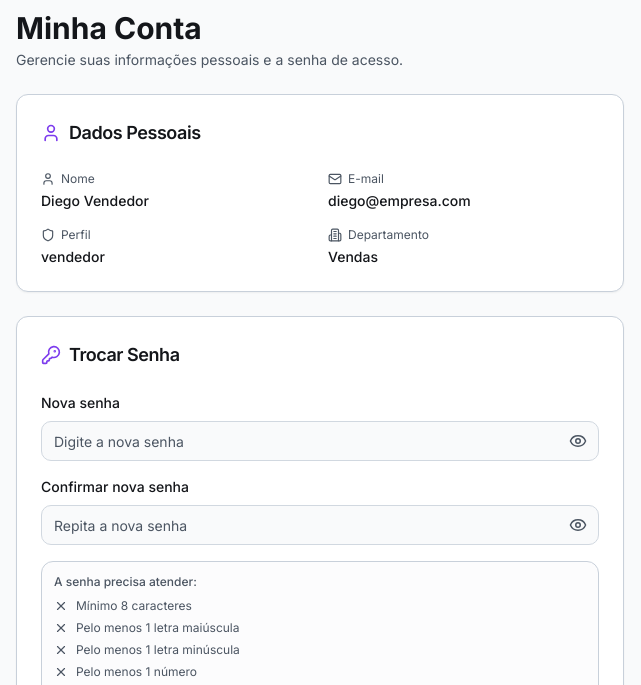
Test: MinhaConta — validação em tempo real › botão continua desabilitado quando confirmação não bate
Type "Senha@123" into the password field labelled "Nova senha" at [320, 441], box left=41, top=421, right=599, bottom=461
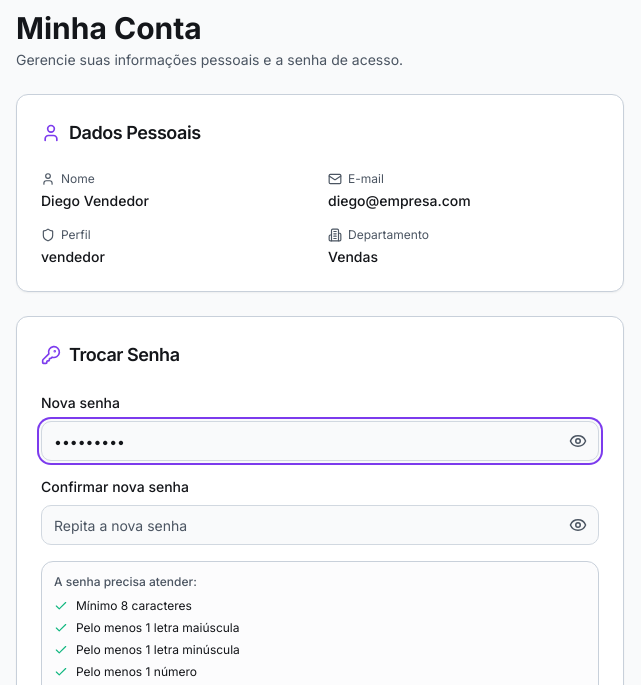
Type "Outra@456" into the password field labelled "Confirmar nova senha" at [320, 525], box left=41, top=505, right=599, bottom=545
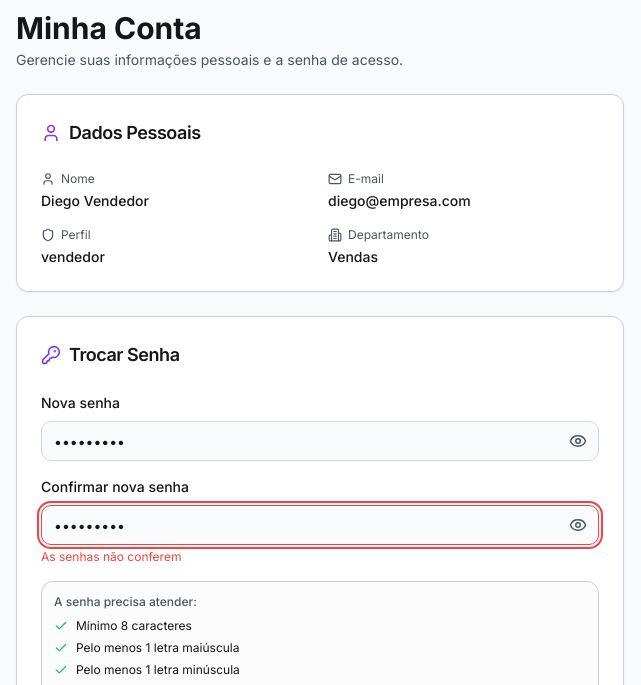
expect the text "As senhas não conferem" is shown: met, box left=41, top=549, right=181, bottom=564
